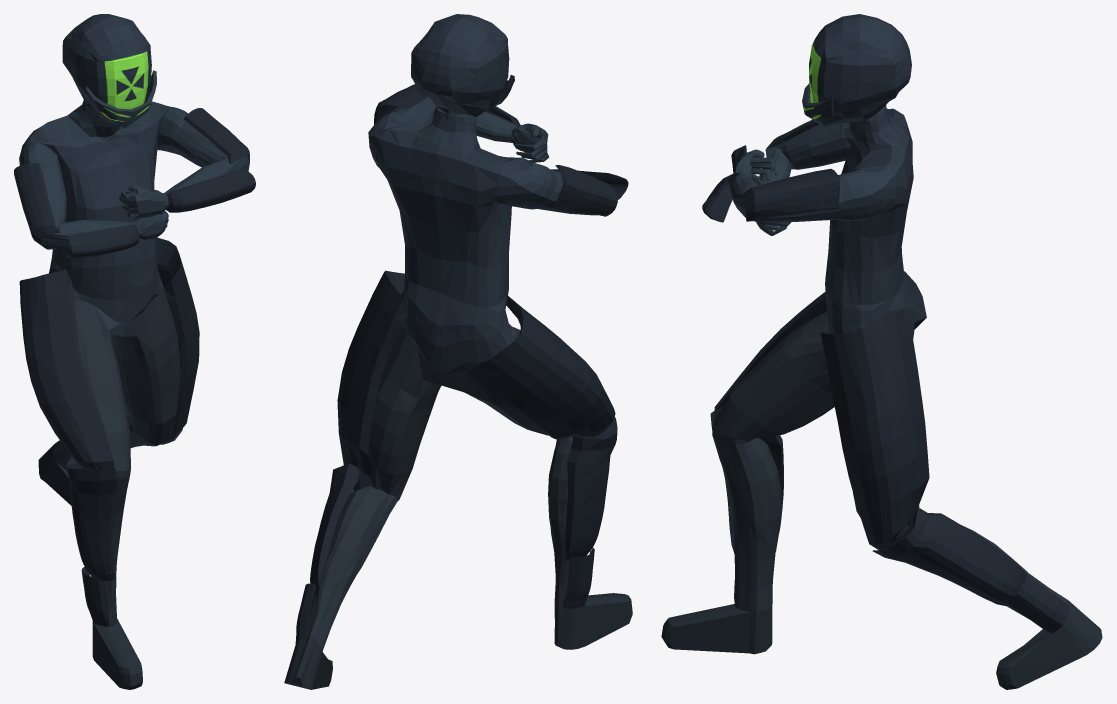
Rendered from Bastion_WL_000018.obj.
3 views of the same model, side by side, from view 1: azimuth 30°, elevation 25°; view 2: azimuth 150°, elevation 25°; view 3: azimuth 270°, elevation 25° (orthographic). The views are drawn at different scales.
Parts seen in each view (by area): view 1: Cube.002; view 2: Cube.002; view 3: Cube.002.
Boxes of the visible parts, x1=… form: Cube.002: x1=14, y1=14, x2=255, y2=689; Cube.002: x1=284, y1=14, x2=632, y2=689; Cube.002: x1=661, y1=14, x2=1102, y2=689.
Bounding box in the file's own units: 1.32 × 3.58 × 2.17.
